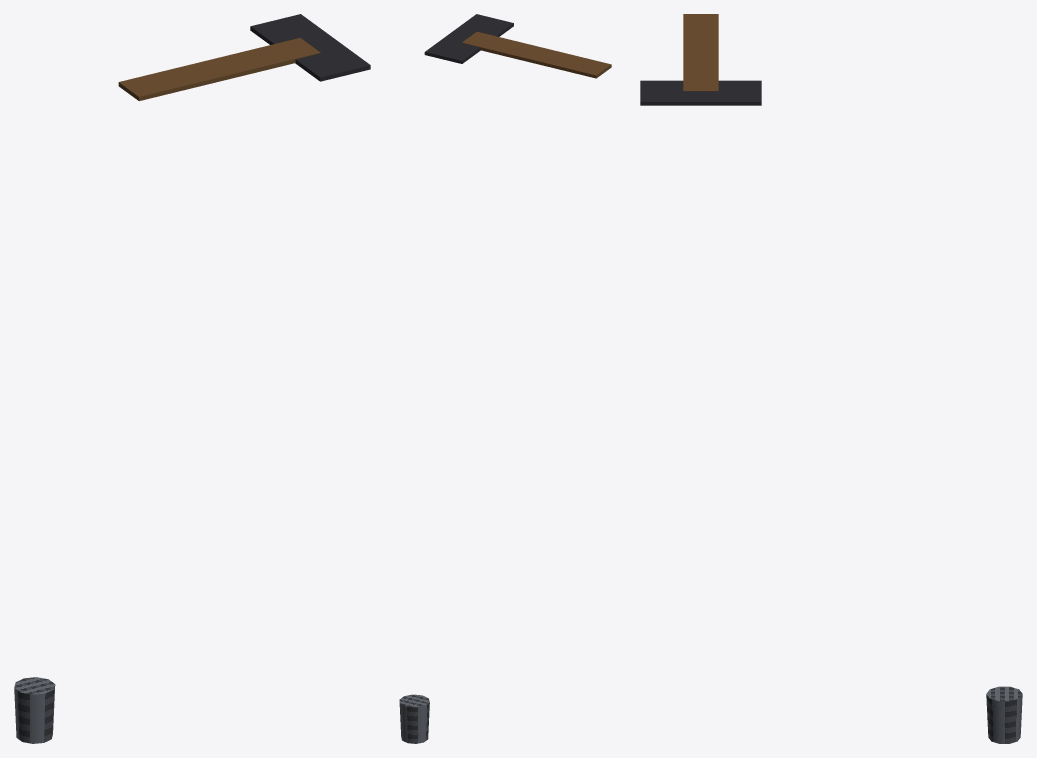
The model's file is Detail_0_-10.glb.
3 views of the same model, side by side, from view 1: azimuth 30°, elevation 25°; view 2: azimuth 150°, elevation 25°; view 3: azimuth 270°, elevation 25° (orthographic). The views are drawn at different scales.
Parts seen in each view (by area): view 1: Detail_0_-10; view 2: Detail_0_-10; view 3: Detail_0_-10.
Boxes of the visible parts, box(x1,y1,x2,y2) form: Detail_0_-10: box(14, 14, 370, 743); Detail_0_-10: box(399, 14, 611, 743); Detail_0_-10: box(640, 14, 1022, 743).
Bounding box in the file's own units: 4.1 × 15.03 × 7.56.
Materials: 3 (1 with a texture image).
